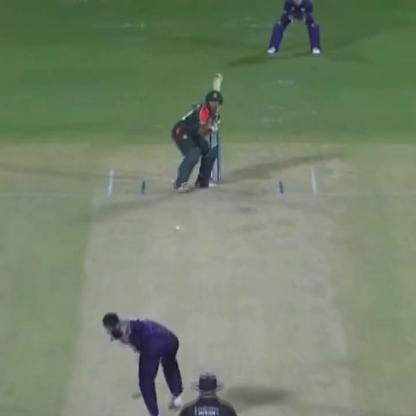ball: (172, 221, 187, 236)
bat: (203, 69, 229, 122)
pitch: (60, 159, 356, 416)
